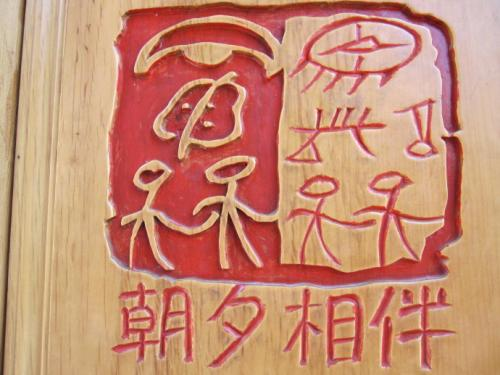chinese: (110, 279, 457, 372)
naxi: (123, 17, 443, 273)
